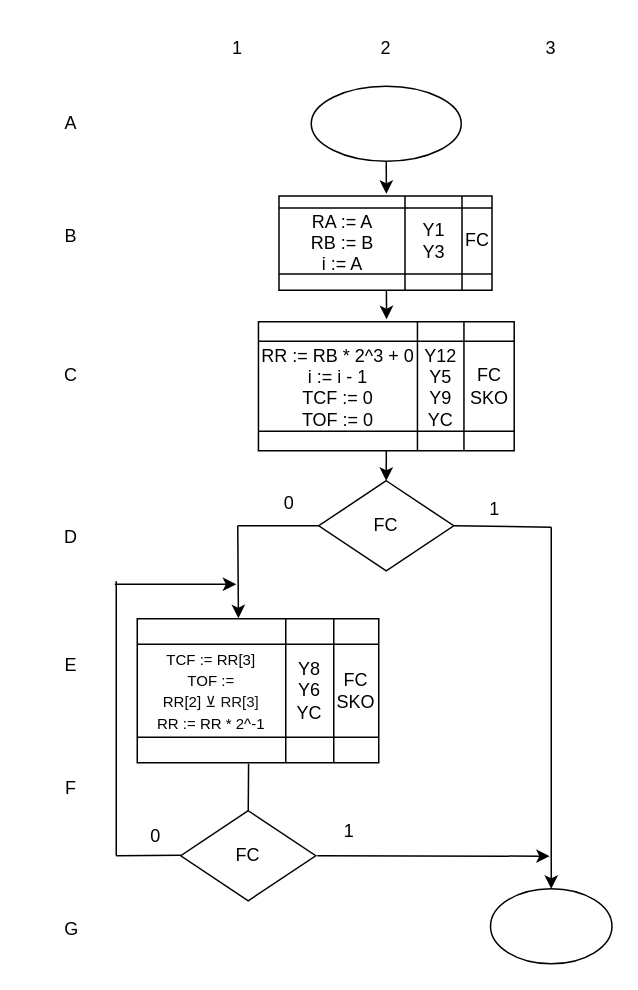
Image size: 638x990. Some labels were removed from this diagram. The centre of each missing label's shape, as x and y in pixels:
BEGIN: the point at 385,123
END: the point at 550,925
